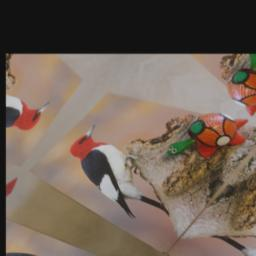Woodpecker: (44, 122, 202, 232)
